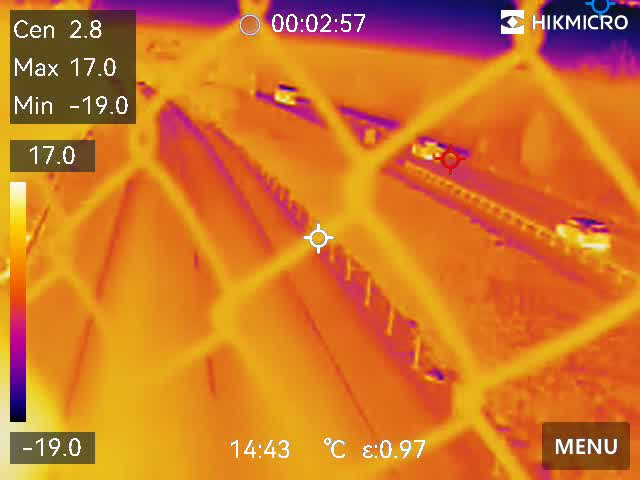vehicle: (552, 214, 611, 254), (410, 132, 450, 163), (271, 82, 299, 105)
